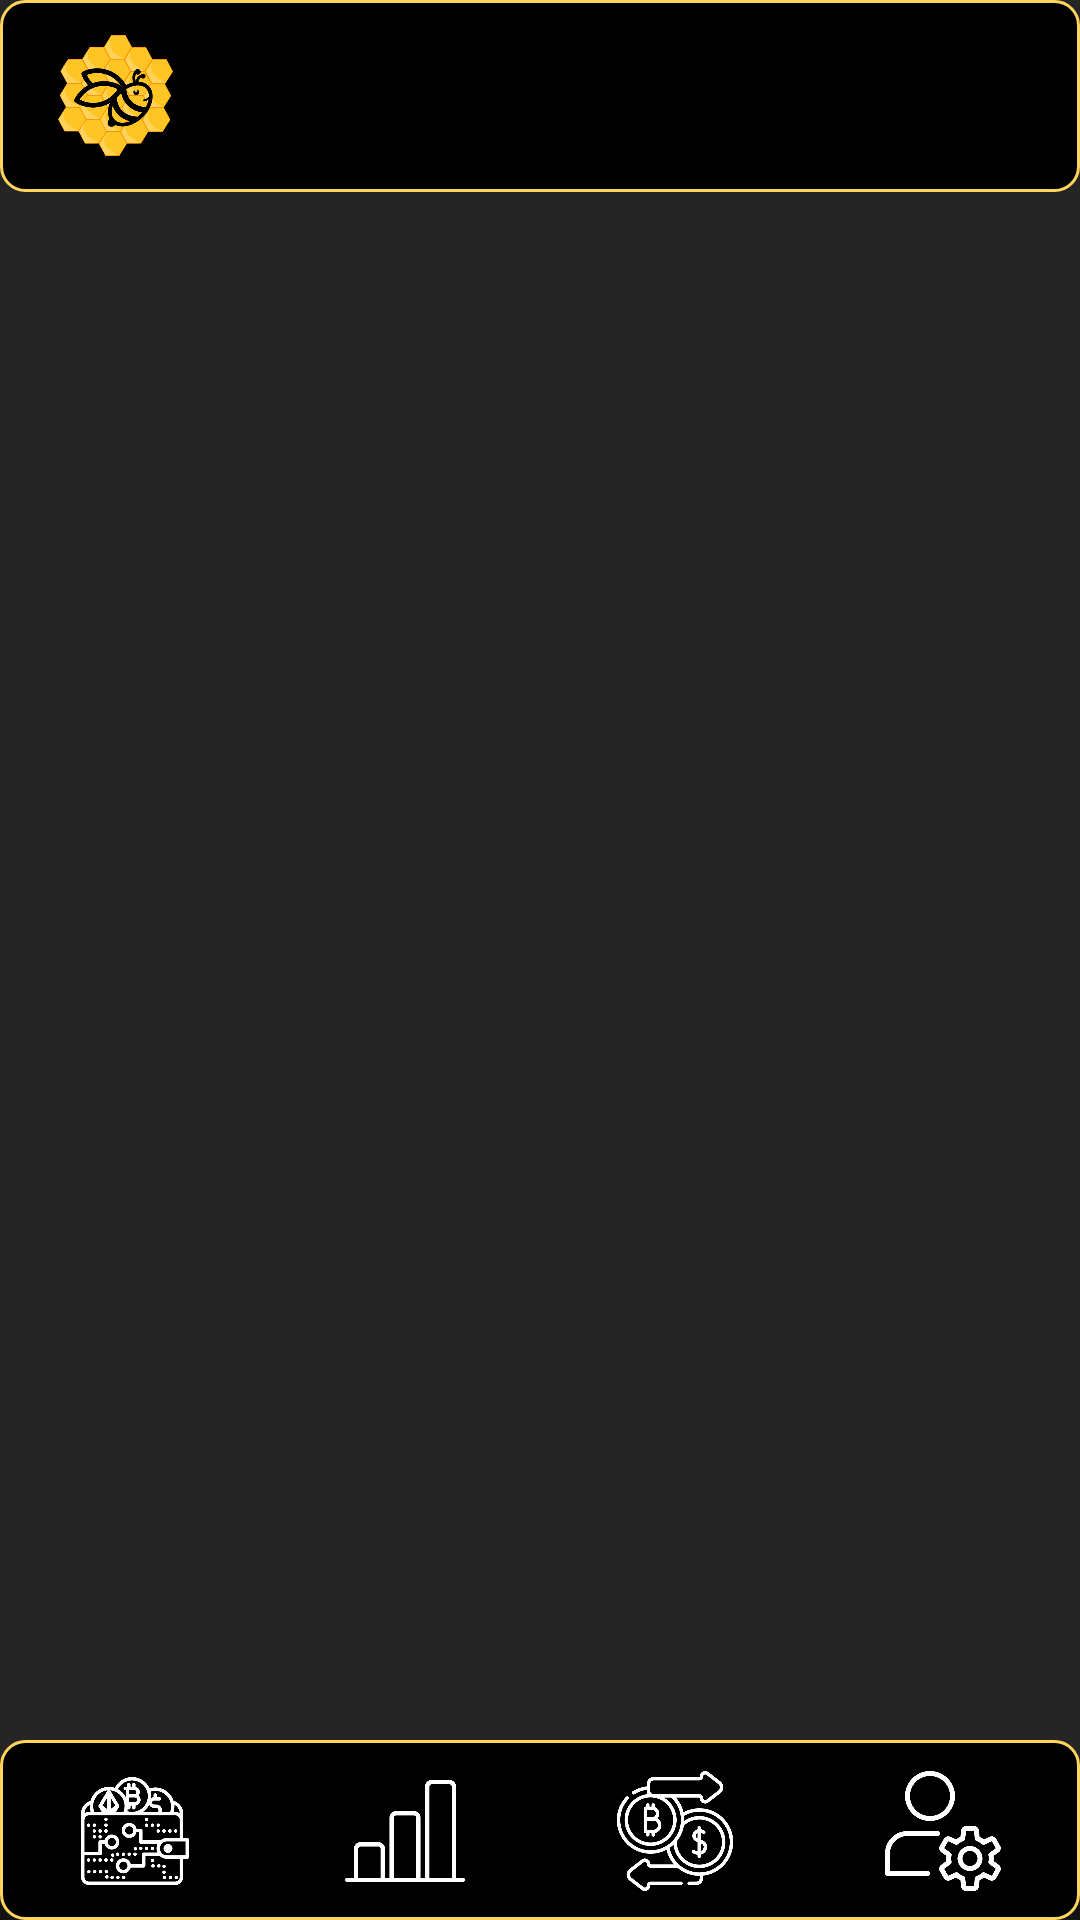

Point at icon controls on the screen. Image size 1080 x 1920, points as point (x, y).
settings: point (943, 1831)
stats: point (405, 1831)
transaction: point (675, 1831)
wallet: point (135, 1831)
